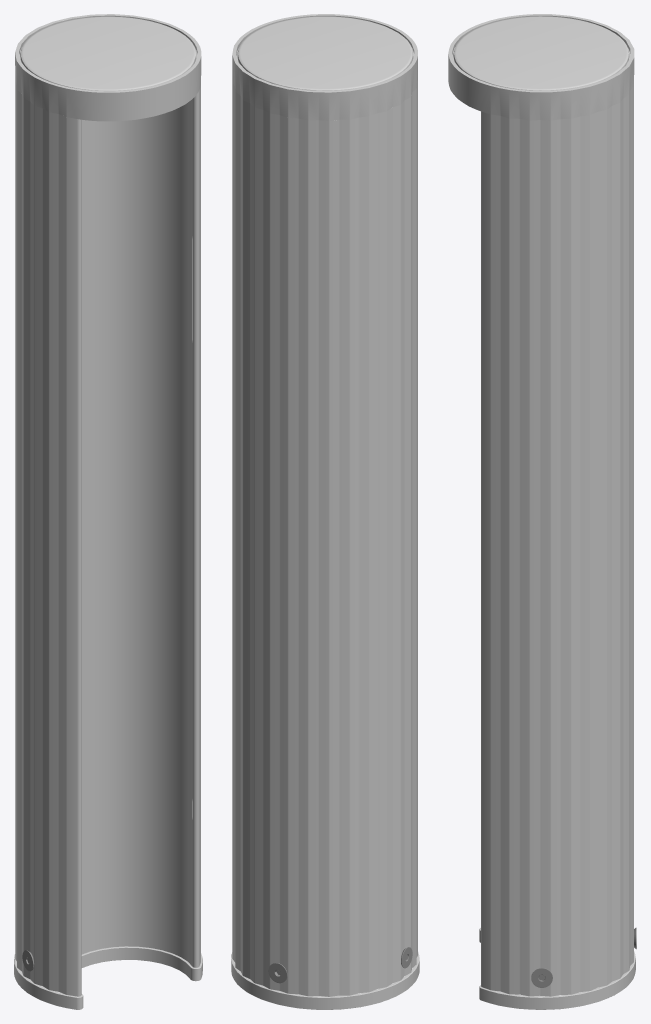
File: Solar_Bollard_Solar.glb
3 renders of one model, left to right at view 1: azimuth 30°, elevation 25°; view 2: azimuth 150°, elevation 25°; view 3: azimuth 270°, elevation 25°, orthographic.
Visible parts, largest first — view 1: Solar_Bollard_Solar; view 2: Solar_Bollard_Solar; view 3: Solar_Bollard_Solar.
Part boxes in pixels (x1,y1,x2,y2): Solar_Bollard_Solar: (14,14,202,1009); Solar_Bollard_Solar: (231,14,419,1009); Solar_Bollard_Solar: (448,14,636,1009).
Size of the model in its own units: 0.1711 by 0.9179 by 0.1707.
Materials: 1 (1 with a texture image).
